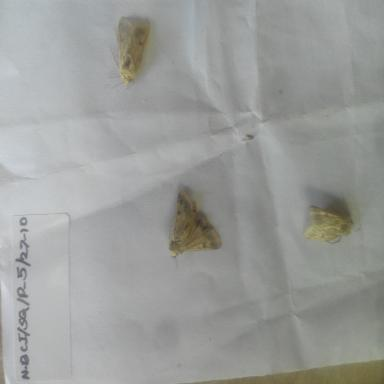abw: (166, 182, 224, 268), (102, 11, 158, 92), (301, 190, 363, 256)
